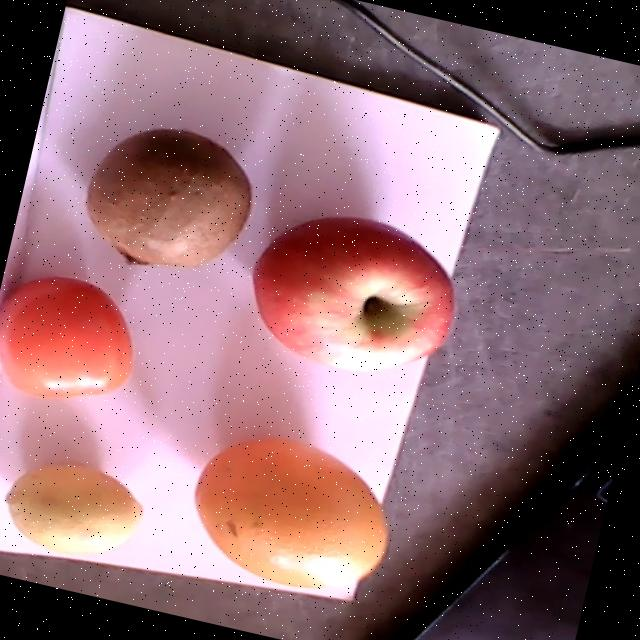apple: (253, 217, 453, 372)
kiwi: (83, 128, 249, 267)
lemon: (3, 465, 142, 554)
orange: (195, 437, 386, 587)
tomato: (0, 276, 133, 398)
